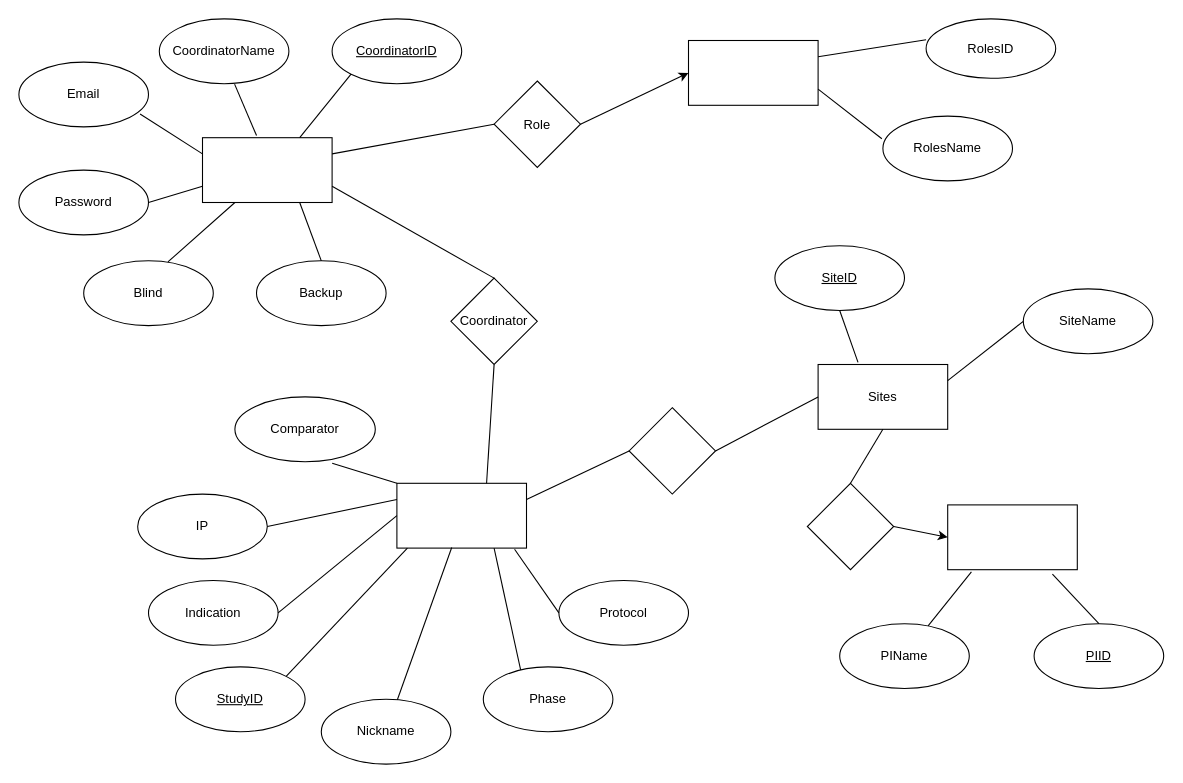
This 1183x783 diagram has some shape labels left out. Here are the shapes that lost their labels. From the top down, the centre of each, then its label:
At point 752,72: "Roles".
At point 266,169: "Coordinators (Study coordinator)".
At point 672,450: "Site".
At point 461,515: "Studys".
At point 850,526: "PI".
At point 1012,537: "PIs".
